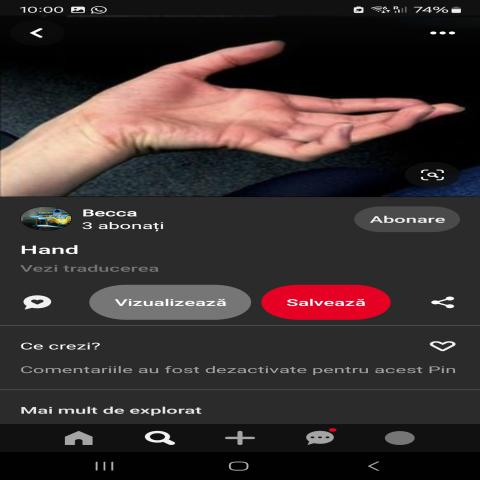hands: (71, 22, 474, 190)
